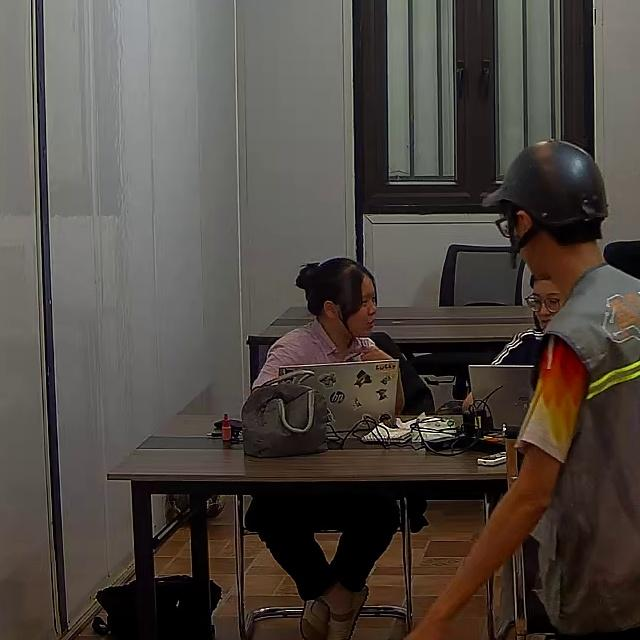helmet: (481, 138, 610, 260)
no_helmet: (294, 257, 372, 319)
none: (249, 319, 374, 392)
vest: (516, 266, 640, 635)
